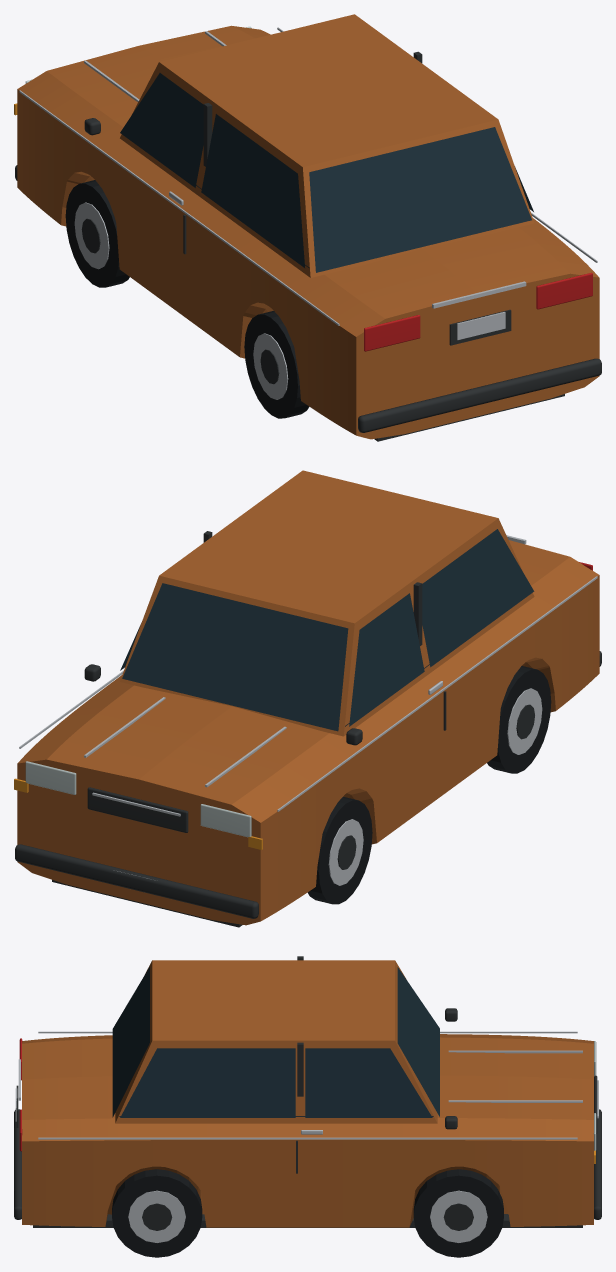
File: traffic_sedan_v1.glb
3 views of the same model, one above another, from view 1: azimuth 30°, elevation 25°; view 2: azimuth 150°, elevation 25°; view 3: azimuth 270°, elevation 25° (orthographic). The views are drawn at different scales.
Parts seen in each view (by area): view 1: sculpted body and wheel arches, solid roof and pillars, rear glass, side glass rear, side glass front, bumper, tire.002, tire, taillamp.001, taillamp, wheel-face, wheel-face.004 (+3 smaller); view 2: sculpted body and wheel arches, solid roof and pillars, windshield, side glass rear, side glass front, bumper.001, tire, tire.002, front grille, wheel-face.004, wheel-face, headlamp (+2 smaller); view 3: sculpted body and wheel arches, solid roof and pillars, side glass rear.001, side glass front.001, tire.003, tire.001, windshield, rear glass, wheel-face.007, wheel-face.003, shoulder crease.001, lower undertray (+6 smaller).
Boxes of the visible parts, x1,y1,x2,y2 form: sculpted body and wheel arches: (17,25,599,439); solid roof and pillars: (120,14,534,277); rear glass: (309,127,531,272); side glass rear: (201,114,304,267); side glass front: (120,73,203,187); bumper: (358,358,601,432); tire.002: (244,311,309,418); tire: (65,180,129,287); taillamp.001: (536,272,592,309); taillamp: (364,315,420,351); wheel-face: (74,202,109,269); wheel-face.004: (253,333,288,399); sculpted body and wheel arches: (17,540,599,925); solid roof and pillars: (120,470,534,736); windshield: (122,583,348,731); side glass rear: (422,529,534,667); side glass front: (349,593,424,726); bumper.001: (15,844,258,918); tire: (307,796,372,904); tire.002: (487,666,551,773); front grille: (87,787,188,832); wheel-face.004: (507,688,542,754); wheel-face: (328,819,363,885); headlamp: (200,804,251,837); sculpted body and wheel arches: (22,1034,593,1227); solid roof and pillars: (115,960,437,1123); side glass rear.001: (120,1048,295,1117); side glass front.001: (305,1048,432,1117); tire.003: (112,1169,202,1257); tire.001: (413,1169,503,1257); windshield: (397,967,439,1116); rear glass: (112,967,149,1117); wheel-face.007: (128,1190,185,1242); wheel-face.003: (430,1190,487,1242); shoulder crease.001: (38,1137,577,1139); lower undertray: (33,1214,582,1227).
Size of the model in its own units: 1.94 by 1.65 by 4.29.
